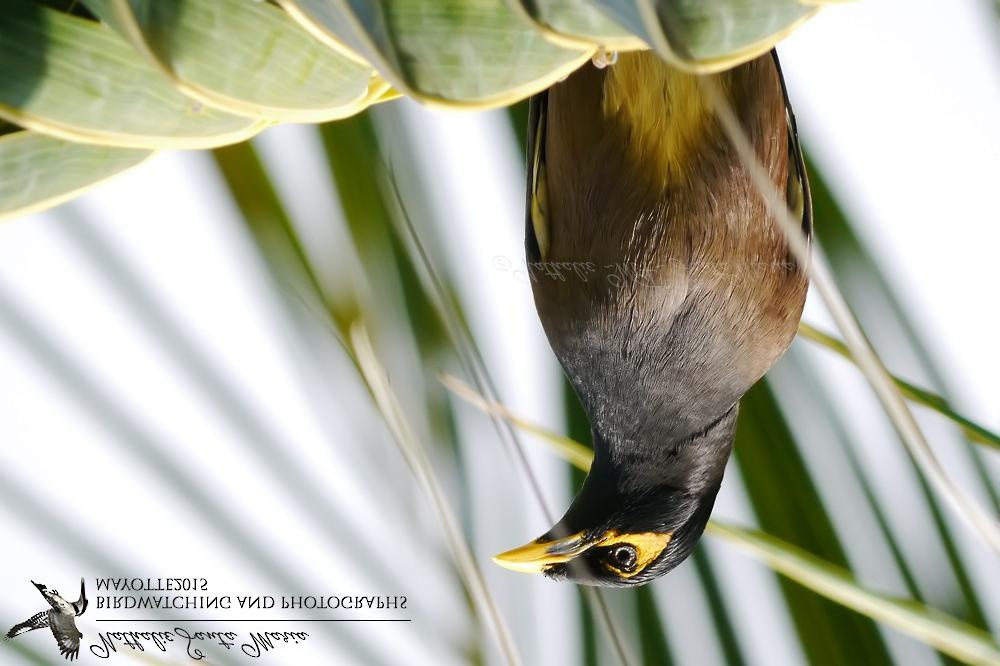myna: (465, 15, 815, 609)
